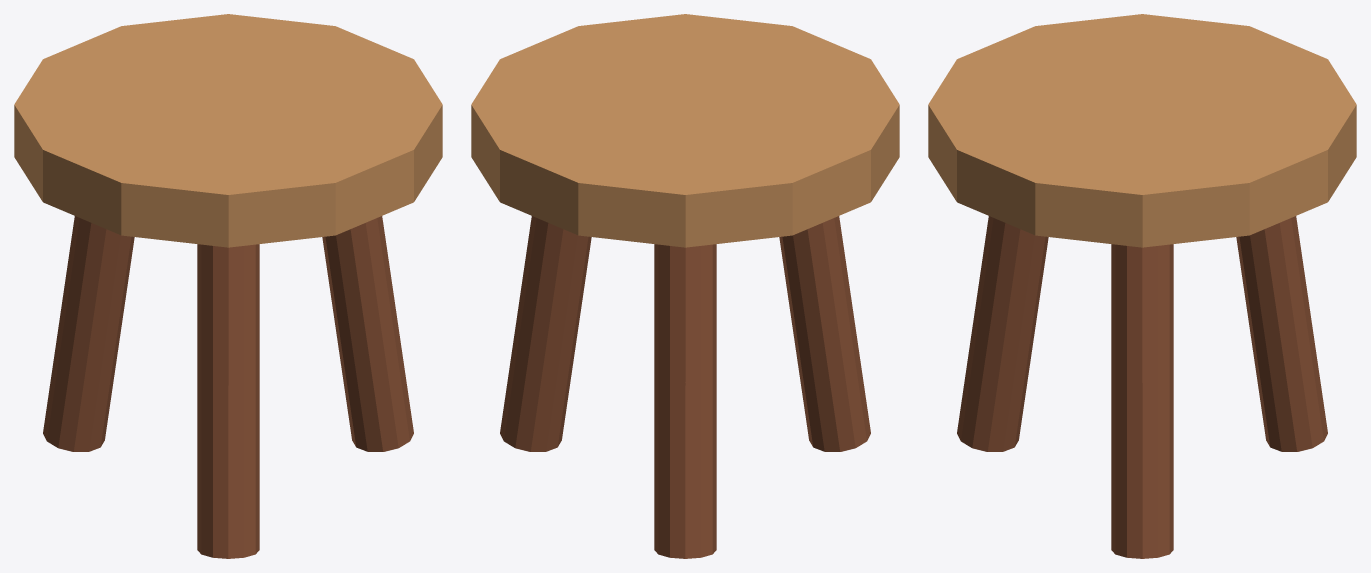
The model's file is 17_Round_Stool.glb.
3 views of the same model, side by side, from view 1: azimuth 30°, elevation 25°; view 2: azimuth 150°, elevation 25°; view 3: azimuth 270°, elevation 25° (orthographic).
Parts seen in each view (by area): view 1: 17_Round_Stool; view 2: 17_Round_Stool; view 3: 17_Round_Stool.
Part boxes in pixels (x1,y1,x2,y2): 17_Round_Stool: (14,14,442,558); 17_Round_Stool: (471,14,899,558); 17_Round_Stool: (928,14,1356,558).
Bounding box in the file's own units: 0.48 × 0.4626 × 0.48.
